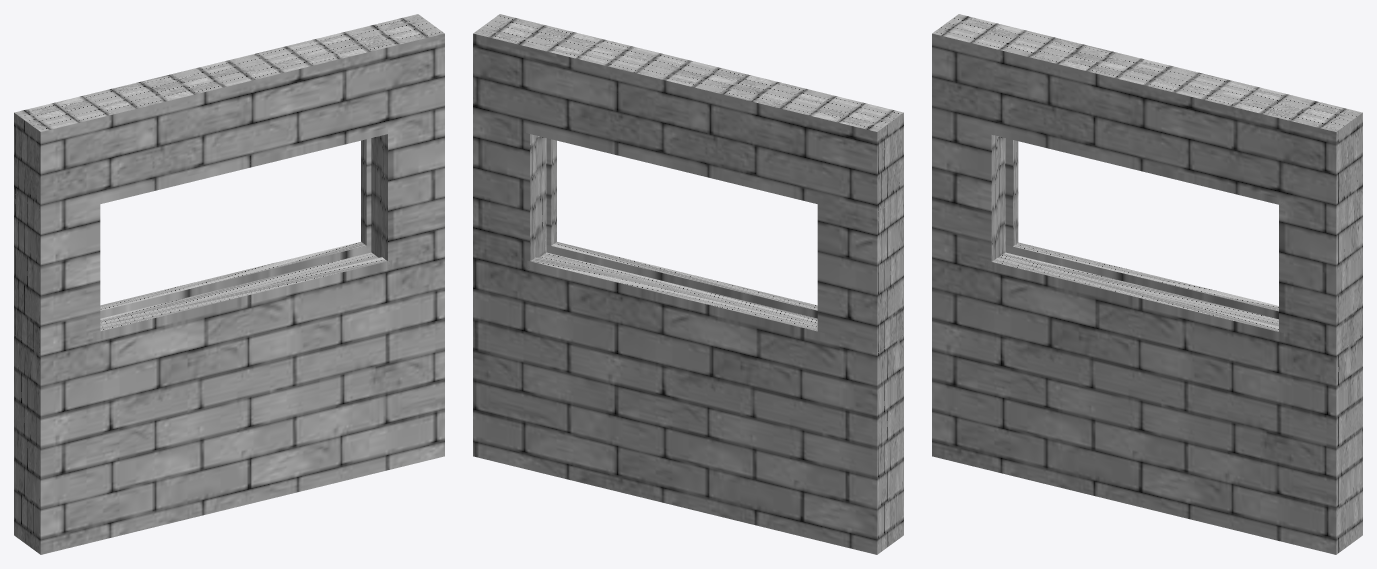
File: pared con ventana con tex.fbx
The picture shows the model from 3 angles, left to right: view 1: azimuth 30°, elevation 25°; view 2: azimuth 150°, elevation 25°; view 3: azimuth 330°, elevation 25°; orthographic projection.
Parts seen in each view (by area): view 1: pared con ventana; view 2: pared con ventana; view 3: pared con ventana.
Part boxes in pixels (x1,y1,x2,y2): pared con ventana: (14,14,444,554); pared con ventana: (473,14,903,554); pared con ventana: (932,14,1362,554).
Size of the model in its own units: 300 by 300 by 34.34.
